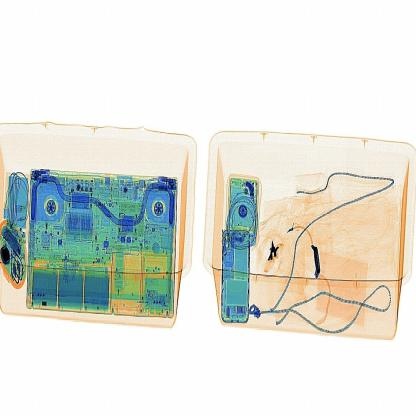gun: (254, 230, 296, 279)
